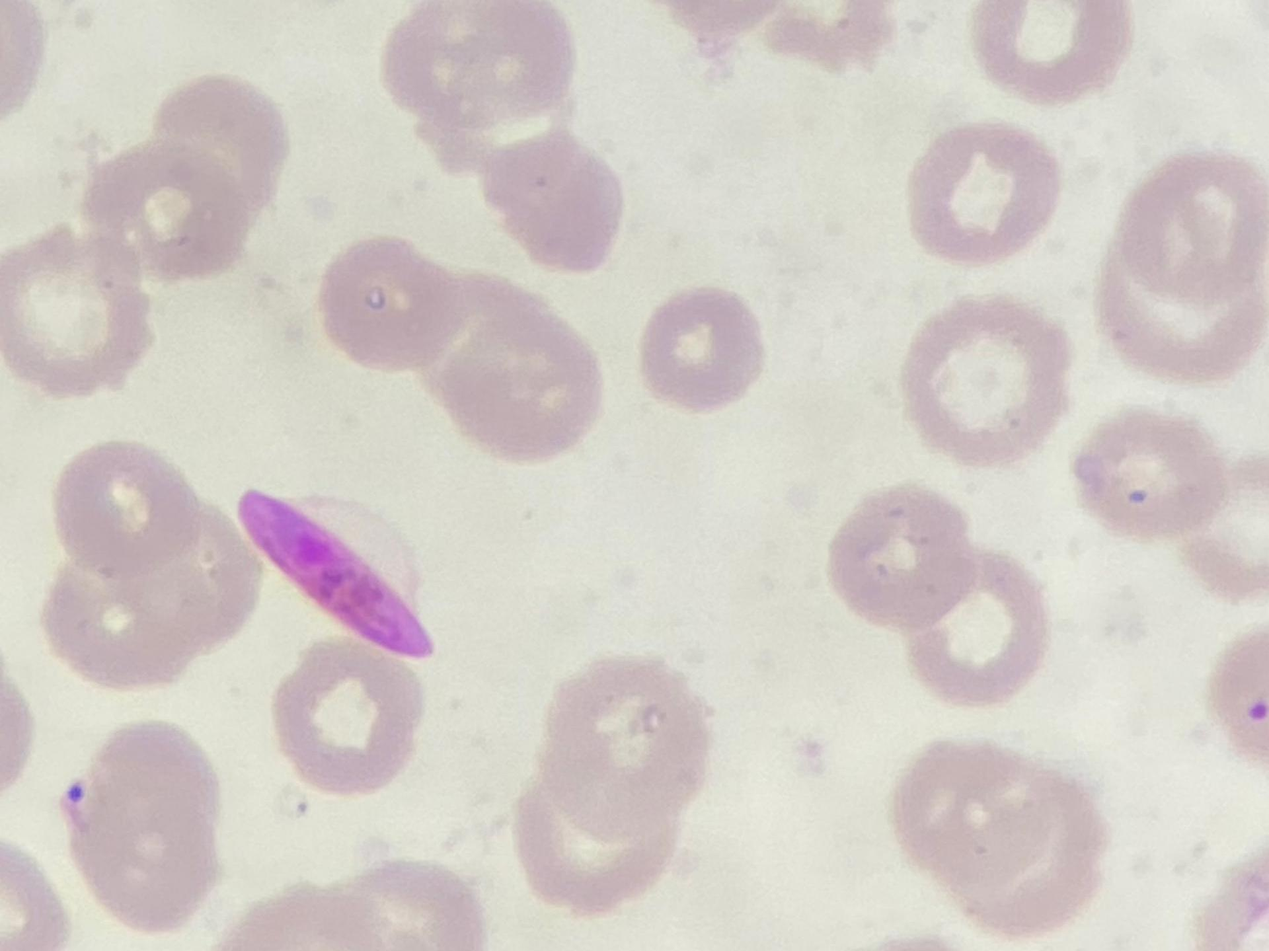Infected: (238, 483, 437, 658)
Uninfected: (68, 721, 223, 928), (543, 653, 713, 841), (901, 294, 1073, 463), (0, 227, 155, 397), (269, 631, 425, 799), (81, 137, 251, 284), (382, 0, 578, 127), (319, 237, 495, 377), (891, 741, 1055, 887), (905, 551, 1054, 705), (1120, 154, 1269, 307), (451, 313, 602, 463), (909, 119, 1061, 264), (514, 787, 679, 915), (825, 483, 973, 625), (479, 133, 626, 274), (150, 73, 290, 216), (1076, 407, 1227, 539), (55, 440, 196, 576), (45, 567, 202, 685), (638, 283, 770, 415), (970, 0, 1131, 104), (326, 858, 486, 951)
